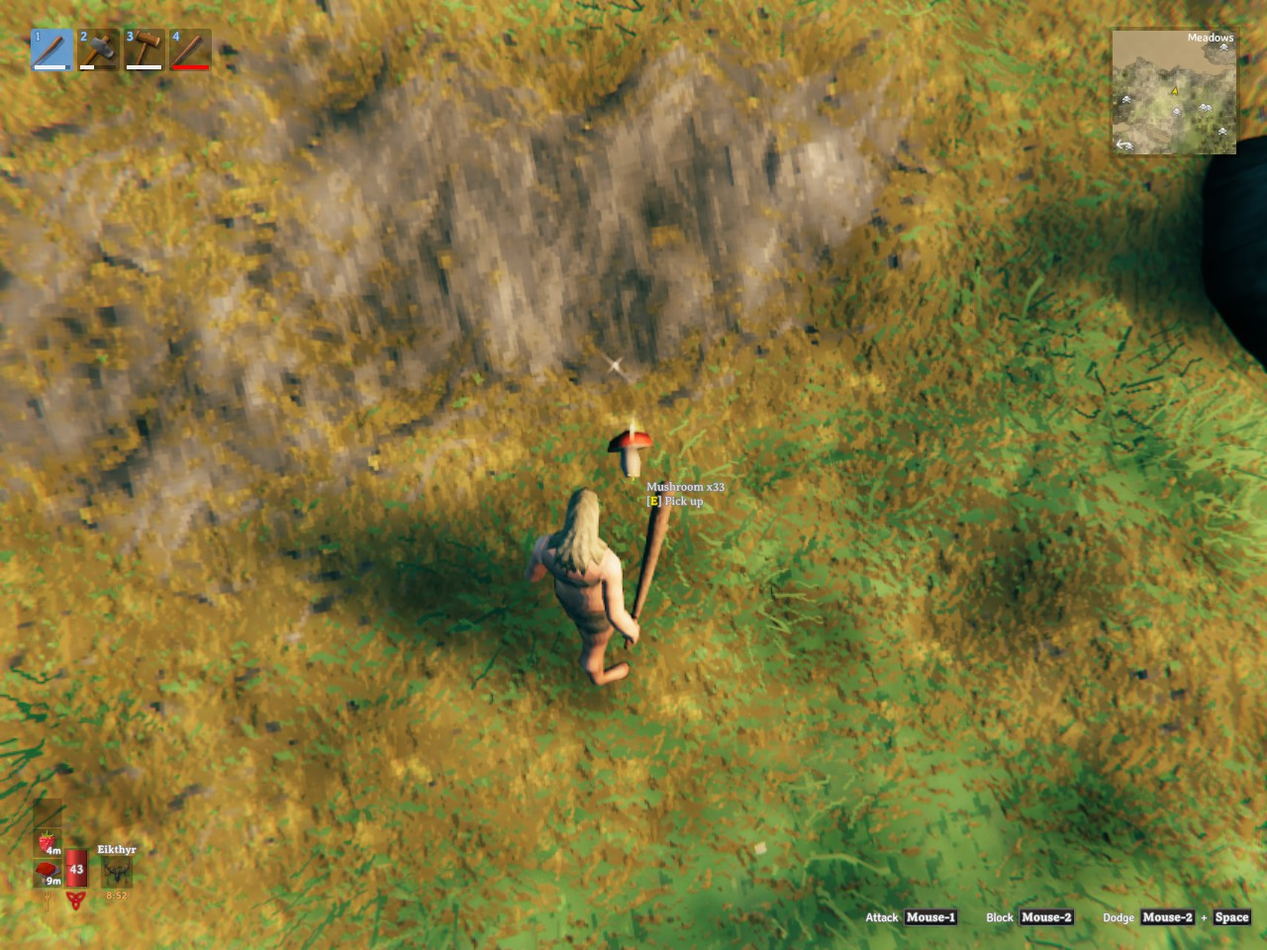Club: (631, 492, 682, 618)
Food Indicator: (36, 829, 63, 891)
Health Bar: (63, 845, 90, 891)
Hotbar: (25, 21, 398, 78)
Mushroom: (608, 423, 652, 477)
